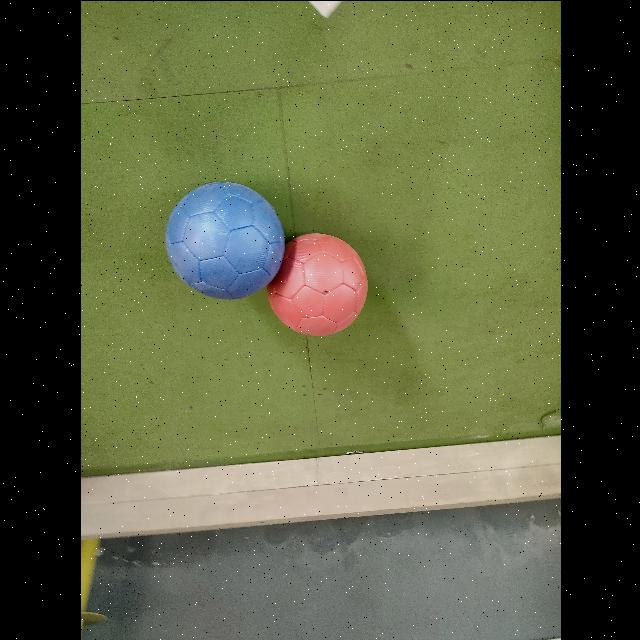B: (165, 181, 284, 298)
R: (266, 232, 367, 335)
